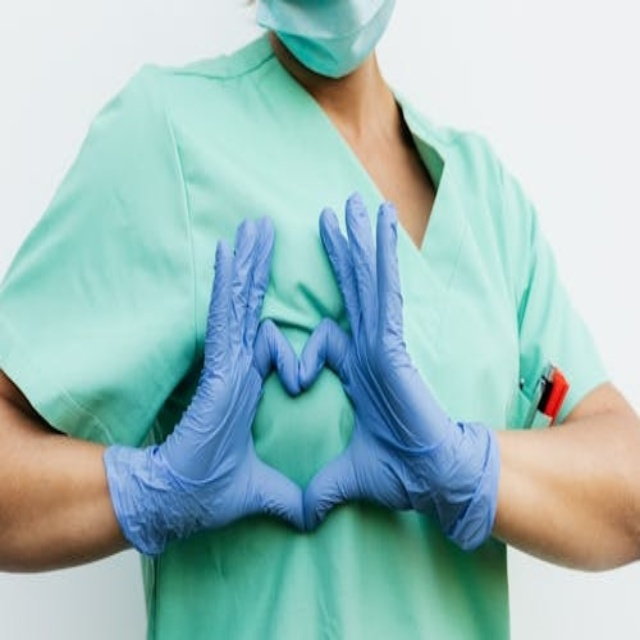Guantes: (296, 191, 501, 551), (101, 212, 303, 557)
Mascara: (257, 0, 398, 77)
